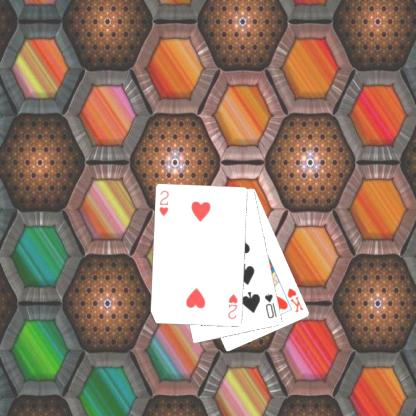10S: (262, 290, 278, 320)
2H: (225, 291, 240, 321), (157, 188, 170, 218)
KH: (284, 285, 305, 314)
